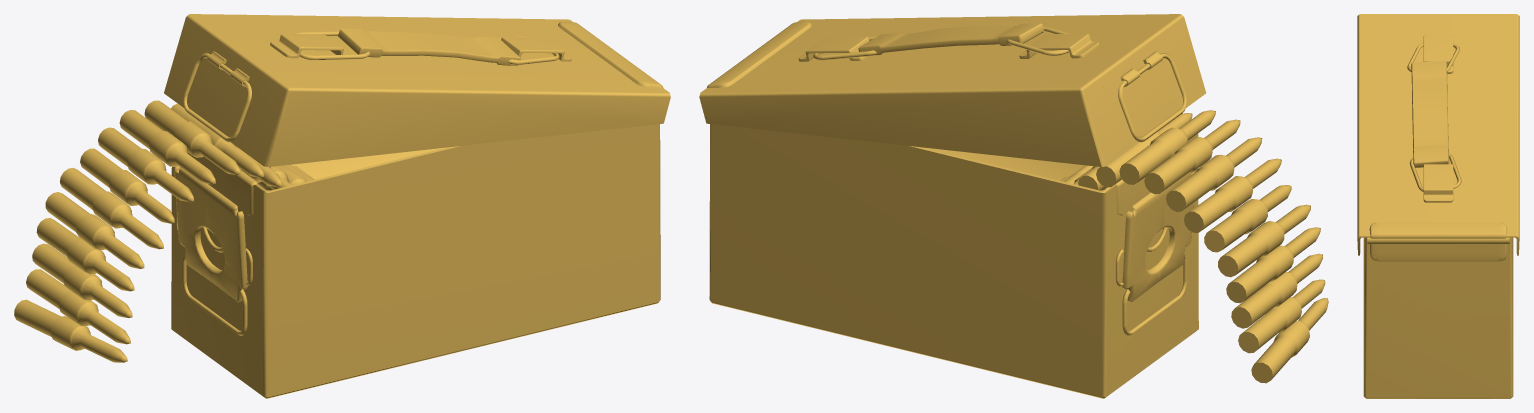
File: p7_zm_power_up_max_ammo.glb
3 renders of one model, left to right at view 1: azimuth 30°, elevation 25°; view 2: azimuth 150°, elevation 25°; view 3: azimuth 270°, elevation 25°, orthographic. The views are drawn at different scales.
Visible parts, largest first — view 1: p7_zm_power_up_max_ammo_mesh; view 2: p7_zm_power_up_max_ammo_mesh; view 3: p7_zm_power_up_max_ammo_mesh.
Boxes of the visible parts, x1,y1,x2,y2 form: p7_zm_power_up_max_ammo_mesh: (14,14,670,398); p7_zm_power_up_max_ammo_mesh: (699,14,1328,398); p7_zm_power_up_max_ammo_mesh: (1357,14,1519,398).
Size of the model in its own units: 24.03 by 12.57 by 7.61.
